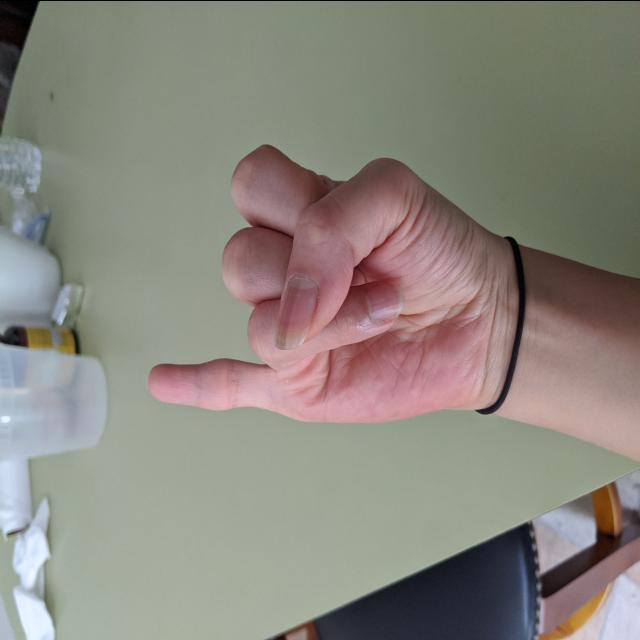I: (141, 136, 502, 434)
